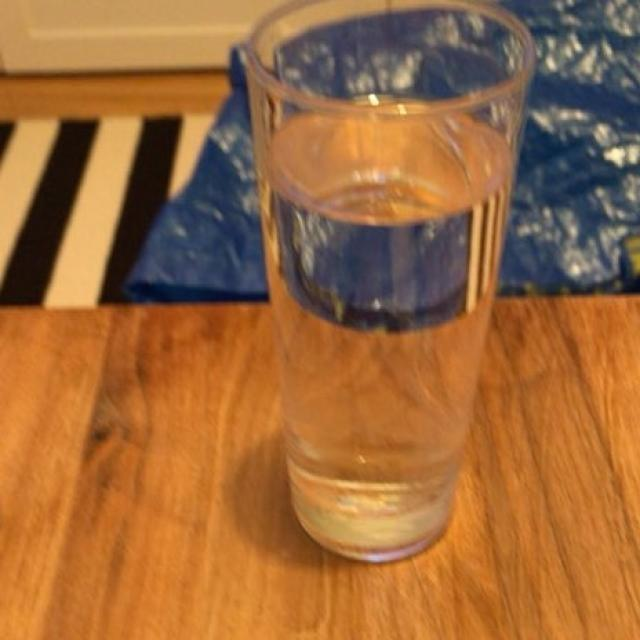water: (258, 107, 518, 534)
